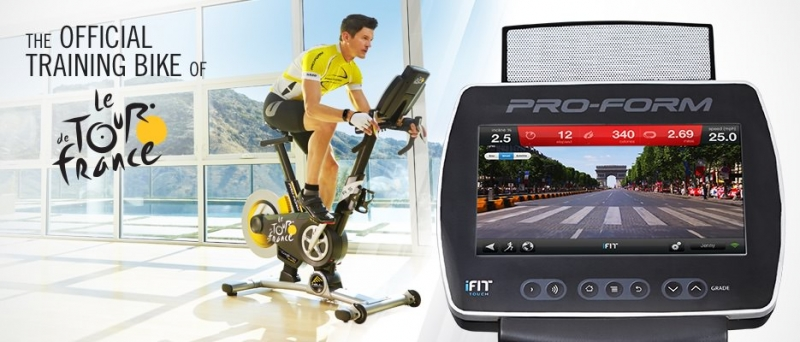gym_bike: (217, 73, 433, 320)
